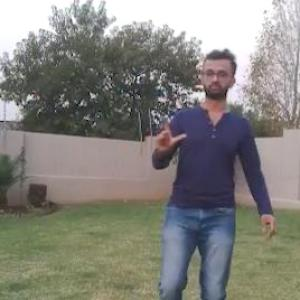land_hand: (152, 107, 190, 158)
